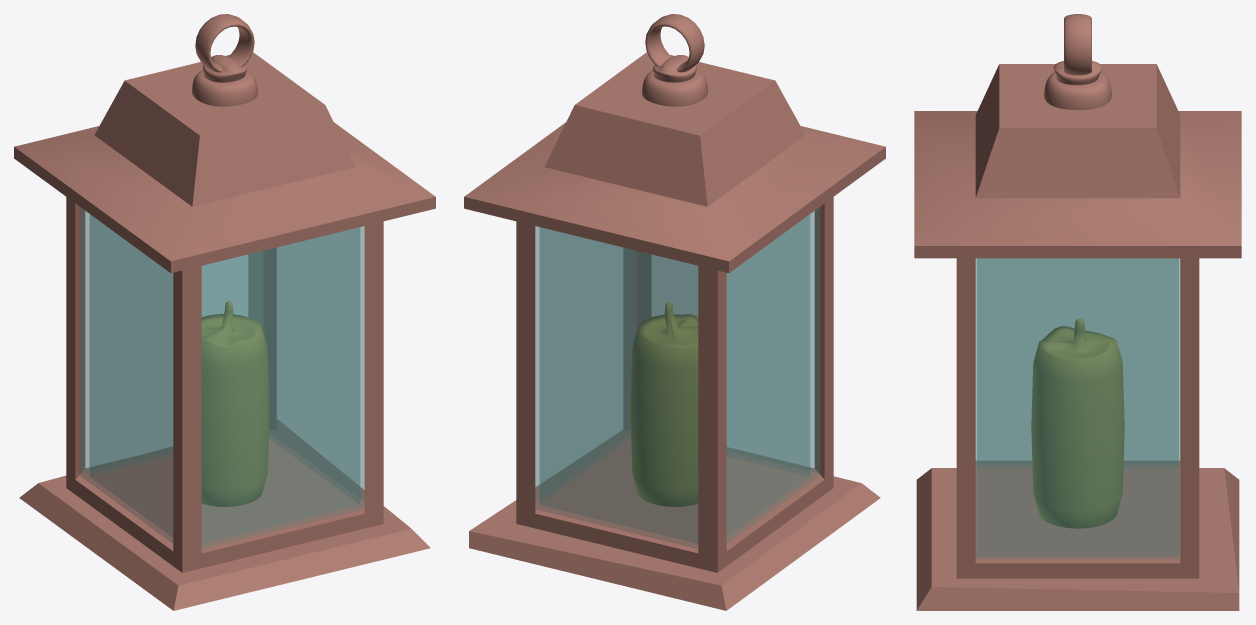
Rendered from Lantern.Mondini.model.fbx.
3 views of the same model, side by side, from view 1: azimuth 30°, elevation 25°; view 2: azimuth 150°, elevation 25°; view 3: azimuth 270°, elevation 25° (orthographic). The views are drawn at different scales.
Parts seen in each view (by area): view 1: Handle1, Glass, Candle; view 2: Handle1, Glass, Candle; view 3: Handle1, Glass, Candle.
Boxes of the visible parts, bbox=[...] form: Handle1: bbox=[14, 14, 435, 610]; Glass: bbox=[79, 207, 364, 548]; Candle: bbox=[201, 300, 269, 506]; Handle1: bbox=[464, 14, 885, 610]; Glass: bbox=[535, 207, 820, 548]; Candle: bbox=[630, 302, 698, 506]; Handle1: bbox=[914, 14, 1241, 610]; Glass: bbox=[975, 258, 1180, 558]; Candle: bbox=[1031, 318, 1124, 528].
Size of the model in its own units: 2.6 by 4.75 by 2.67.
